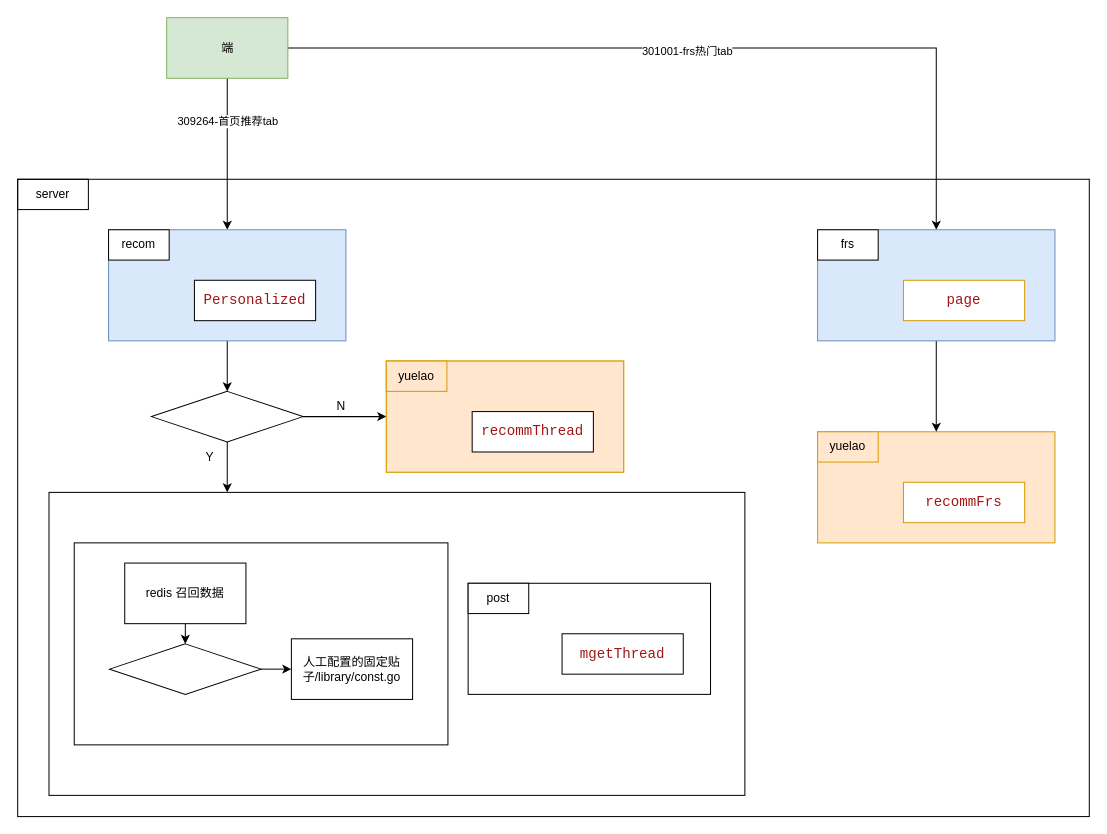
Some shapes in this 1107 by 834 pixel diagram are drawn without their labels. The shapes that lost their labels are listed below. From the top down, each one's centre as x and y in pixels, then its label:
At pixel 226 416: "降级".
At pixel 185 668: "redis无数据".
